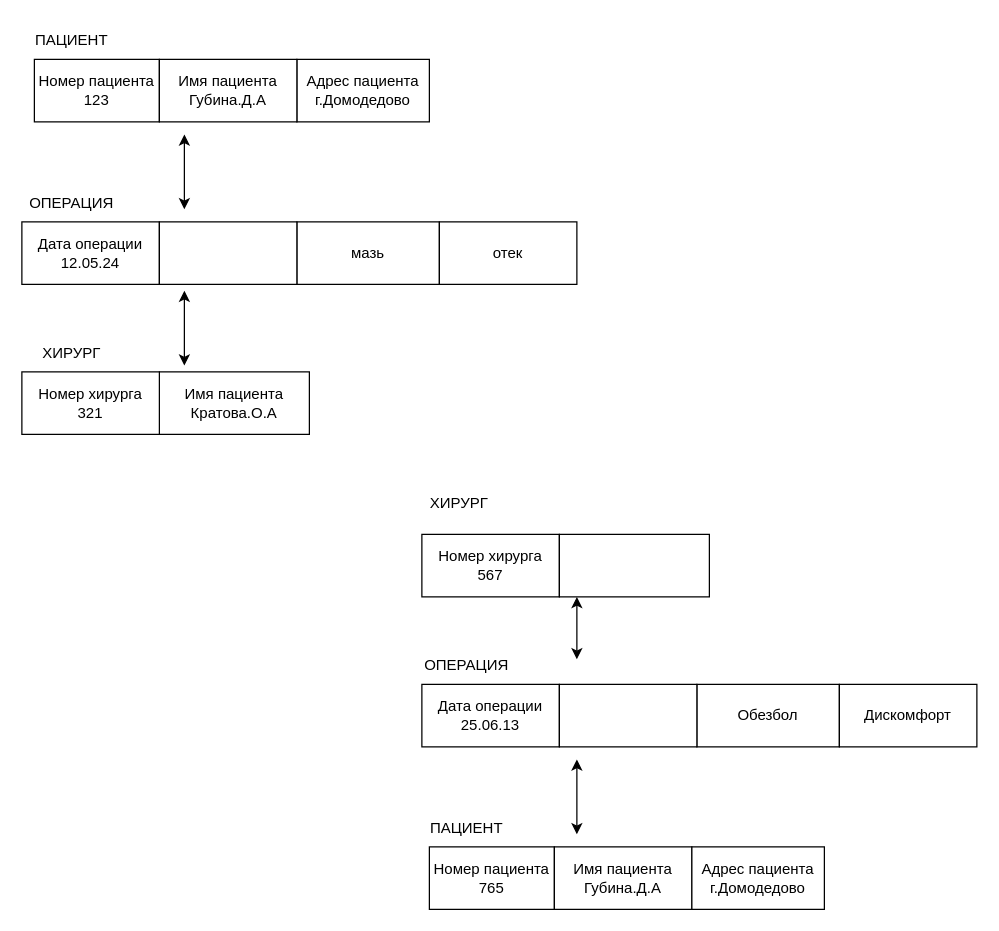
Some shapes in this 999 by 931 pixel diagram are drawn without their labels. Each missing label, with the box of its shape:
Имя пациента Груновская.Е.Л: (558, 533, 709, 597)
Операция Ринопластика: (158, 221, 297, 284)
Операция Удаление опухоли: (558, 683, 697, 747)
